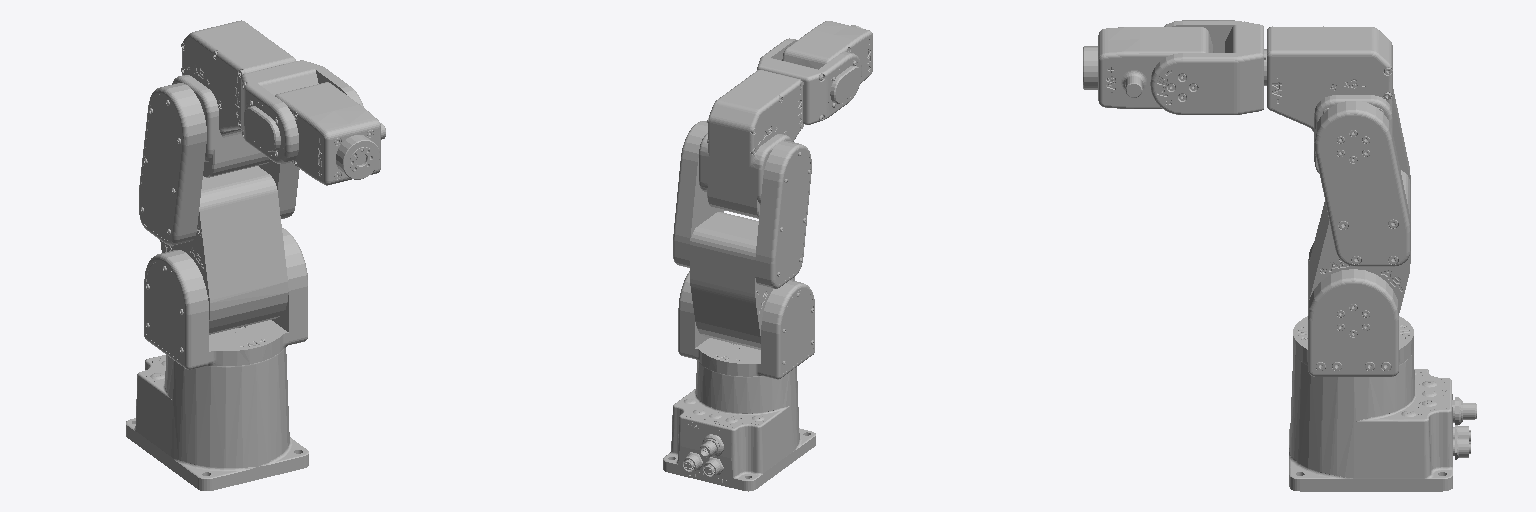
The robot description file, URDF, robot "meca500":
<?xml version="1.0" ?>
<!-- Re-rooted from the home-referenced Onshape export (doc 0427f697...,
     e/fee9a020bbc735c7ee907f27). Tree inverted mathematically: base is root,
     mates in Onshape untouched. Zero position = true Meca500 home. Axis
     0 0 -1 preserves the export's rotation sense. Verified FK-equivalent to
     the export at machine precision.
     Arm-only: split out of robot.urdf.xacro so the Meca500 links/joints can
     be maintained independently of the extruder (see ender3_extruder.urdf). -->
<robot name="meca500">

  <link name="link_0__base">
    <inertial>
      <origin xyz="-3.11465e-05 0.0104961 -0.0502428" rpy="0 0 0"/>
      <mass value="1.90904"/>
      <inertia ixx="0.00285533" ixy="3.86058e-06" ixz="-1.52473e-07" iyy="0.00224755" iyz="0.000252565" izz="0.00266554"/>
    </inertial>
    <visual>
      <origin xyz="0.0155431 0 -0.00437016" rpy="0 0 0"/>
      <geometry><mesh filename="package://msr_meca500_robot/meshes_meca500_with_ender3/link_0__base.stl"/></geometry>
      <material name="link_0__base_material"><color rgba="0.74902 0.74902 0.74902 1"/></material>
    </visual>
    <collision>
      <origin xyz="0.0155431 0 -0.00437016" rpy="0 0 0"/>
      <geometry><mesh filename="package://msr_meca500_robot/meshes_meca500_with_ender3/link_0__base.stl"/></geometry>
    </collision>
  </link>

  <link name="link_1">
    <inertial>
      <origin xyz="0.0012589 -7.610418e-07 0.0232115" rpy="0 0 0"/>
      <mass value="0.619419"/>
      <inertia ixx="0.000550361" ixy="-2.50659e-08" ixz="-1.45934e-05" iyy="0.00108163" iyz="5.45289e-09" izz="0.000974018"/>
    </inertial>
    <visual>
      <origin xyz="0 -1.6345763e-07 0.0445" rpy="-1.570799 3.6732051e-06 -1.5708"/>
      <geometry><mesh filename="package://msr_meca500_robot/meshes_meca500_with_ender3/link_1.stl"/></geometry>
      <material name="link_1_material"><color rgba="0.74902 0.74902 0.74902 1"/></material>
    </visual>
    <collision>
      <origin xyz="0 -1.6345763e-07 0.0445" rpy="-1.570799 3.6732051e-06 -1.5708"/>
      <geometry><mesh filename="package://msr_meca500_robot/meshes_meca500_with_ender3/link_1.stl"/></geometry>
    </collision>
  </link>

  <link name="link_2">
    <inertial>
      <origin xyz="-0.0058745645 0.050695484 0.0318181" rpy="0 0 0"/>
      <mass value="1.73919"/>
      <inertia ixx="0.0052387" ixy="8.73073e-05" ixz="5.16414e-07" iyy="0.001944" iyz="5.35906e-05" izz="0.00435286"/>
    </inertial>
    <visual>
      <origin xyz="1.3100773e-07 -0.04937 0.0164569" rpy="-1.5707927 1.5707927 2.6535898e-06"/>
      <geometry><mesh filename="package://msr_meca500_robot/meshes_meca500_with_ender3/link_2.stl"/></geometry>
      <material name="link_2_material"><color rgba="0.74902 0.74902 0.74902 1"/></material>
    </visual>
    <collision>
      <origin xyz="1.3100773e-07 -0.04937 0.0164569" rpy="-1.5707927 1.5707927 2.6535898e-06"/>
      <geometry><mesh filename="package://msr_meca500_robot/meshes_meca500_with_ender3/link_2.stl"/></geometry>
    </collision>
  </link>

  <link name="link_3">
    <inertial>
      <origin xyz="-0.0086346826 -0.013079285 0.031972351" rpy="0 0 0"/>
      <mass value="1.00601"/>
      <inertia ixx="0.000992666" ixy="-0.00018473" ixz="-4.31499e-06" iyy="0.000746526" iyz="-1.39099e-05" izz="0.00122325"/>
    </inertial>
    <visual>
      <origin xyz="5.8612967e-08 0.18436996 0.015957389" rpy="-2.1964137 1.5707918 2.5159789"/>
      <geometry><mesh filename="package://msr_meca500_robot/meshes_meca500_with_ender3/link_3.stl"/></geometry>
      <material name="link_3_material"><color rgba="0.74902 0.74902 0.74902 1"/></material>
    </visual>
    <collision>
      <origin xyz="5.8612967e-08 0.18436996 0.015957389" rpy="-2.1964137 1.5707918 2.5159789"/>
      <geometry><mesh filename="package://msr_meca500_robot/meshes_meca500_with_ender3/link_3.stl"/></geometry>
    </collision>
  </link>

  <link name="link_4">
    <inertial>
      <origin xyz="-0.0012501924 6.30456e-06 0.029286305" rpy="0 0 0"/>
      <mass value="0.314367"/>
      <inertia ixx="0.000184016" ixy="-9.21593e-09" ixz="7.34301e-06" iyy="0.000298673" iyz="1.8395e-08" izz="0.000209158"/>
    </inertial>
    <visual>
      <origin xyz="2.167191e-07 4.4e-06 0.059" rpy="-1.57079 -3.6732051e-06 1.5707963"/>
      <geometry><mesh filename="package://msr_meca500_robot/meshes_meca500_with_ender3/link_4.stl"/></geometry>
      <material name="link_4_material"><color rgba="0.74902 0.74902 0.74902 1"/></material>
    </visual>
    <collision>
      <origin xyz="2.167191e-07 4.4e-06 0.059" rpy="-1.57079 -3.6732051e-06 1.5707963"/>
      <geometry><mesh filename="package://msr_meca500_robot/meshes_meca500_with_ender3/link_4.stl"/></geometry>
    </collision>
  </link>

  <link name="link_5">
    <inertial>
      <origin xyz="-0.020511087 2.54851e-06 0.023742928" rpy="0 0 0"/>
      <mass value="0.447067"/>
      <inertia ixx="0.000149997" ixy="-2.2551e-08" ixz="9.46505e-06" iyy="0.000325043" iyz="-8.77008e-09" izz="0.000314979"/>
    </inertial>
    <visual>
      <origin xyz="0.11999985 -0.2223748 0.039793541" rpy="1.5707927 -1.5707927 3.1415927"/>
      <geometry><mesh filename="package://msr_meca500_robot/meshes_meca500_with_ender3/link_5.stl"/></geometry>
      <material name="link_5_material"><color rgba="0.74902 0.74902 0.74902 1"/></material>
    </visual>
    <collision>
      <origin xyz="0.11999985 -0.2223748 0.039793541" rpy="1.5707927 -1.5707927 3.1415927"/>
      <geometry><mesh filename="package://msr_meca500_robot/meshes_meca500_with_ender3/link_5.stl"/></geometry>
    </collision>
  </link>

  <!-- Renamed from e_plate to link_6__flange so existing MoveIt/TF configs keep resolving -->
  <link name="link_6__flange">
    <inertial>
      <origin xyz="0.0023892729 0.030714176 0.047889894" rpy="0 0 0"/>
      <mass value="0.0621557"/>
      <inertia ixx="4.78126e-05" ixy="1.09528e-06" ixz="-1.31699e-06" iyy="4.16512e-05" iyz="-1.34038e-05" izz="3.06279e-05"/>
    </inertial>
    <visual>
      <origin xyz="0.076354021 -0.051549583 -0.15859321" rpy="-1.5707953 2.6535898e-06 -3.1415927"/>
      <geometry><mesh filename="package://msr_meca500_robot/meshes_meca500_with_ender3/link_6__flange.stl"/></geometry>
      <material name="link_6__flange_material"><color rgba="0.74902 0.74902 0.74902 1"/></material>
    </visual>
    <collision>
      <origin xyz="0.076354021 -0.051549583 -0.15859321" rpy="-1.5707953 2.6535898e-06 -3.1415927"/>
      <geometry><mesh filename="package://msr_meca500_robot/meshes_meca500_with_ender3/link_6__flange.stl"/></geometry>
    </collision>
  </link>

  <joint name="joint1" type="revolute">
    <origin xyz="0 0 0" rpy="0 0 0"/>
    <parent link="link_0__base"/>
    <child link="link_1"/>
    <axis xyz="0 0 -1"/>
    <limit effort="16.6" velocity="3.927" lower="-3.0543" upper="3.0543"/>
  </joint>
  <joint name="joint2" type="revolute">
    <origin xyz="0.0325 -2.8283679e-07 0.0445" rpy="1.5707963 3.6732051e-06 -1.5708"/>
    <parent link="link_1"/>
    <child link="link_2"/>
    <axis xyz="0 0 -1"/>
    <limit effort="16.6" velocity="3.927" lower="-1.2217" upper="1.5708"/>
  </joint>
  <joint name="joint3" type="revolute">
    <origin xyz="-3.5823462e-07 0.135 0" rpy="0 0 -3.14159"/>
    <parent link="link_2"/>
    <child link="link_3"/>
    <axis xyz="0 0 -1"/>
    <limit effort="16.6" velocity="3.927" lower="-2.3562" upper="1.2217"/>
  </joint>
  <joint name="joint4" type="revolute">
    <origin xyz="-0.060999884 -0.038000084 0.031500123" rpy="-0.62561375 1.5707918 2.5159789"/>
    <parent link="link_3"/>
    <child link="link_4"/>
    <axis xyz="0 0 -1"/>
    <limit effort="2.5" velocity="6.1087" lower="-2.9671" upper="2.9671"/>
  </joint>
  <joint name="joint5" type="revolute">
    <origin xyz="-0.023999783 4.4e-06 0.059000088" rpy="3.1415927 1.5707927 3.1415927"/>
    <parent link="link_4"/>
    <child link="link_5"/>
    <axis xyz="0 0 -1"/>
    <limit effort="2.5" velocity="6.1087" lower="-2.0071" upper="2.0071"/>
  </joint>
  <joint name="joint6" type="revolute">
    <origin xyz="-0.059000089 2.2e-06 0.024249783" rpy="3.1415927 -1.5707927 3.1415927"/>
    <parent link="link_5"/>
    <child link="link_6__flange"/>
    <axis xyz="0 0 -1"/>
    <limit effort="1.5" velocity="8.7266" lower="-628.318" upper="628.318"/>
  </joint>

</robot>

--- Render facts (derived) ---
3 views of the same robot in one strip: view 1: azimuth 30°, elevation 25°; view 2: azimuth 150°, elevation 25°; view 3: azimuth 270°, elevation 25° (orthographic).
Robot: meca500 — 7 links, 6 joints (6 revolute); root link link_0__base; default pose: every joint at zero.
Links seen in each view (by area): view 1: link_2, link_0__base, link_1, link_3, link_5, link_4; view 2: link_2, link_0__base, link_3, link_1, link_4, link_5; view 3: link_0__base, link_2, link_3, link_1, link_4, link_5.
Boxes of the visible links, x1,y1,x2,y2 form: link_2: (139, 83, 299, 334); link_0__base: (126, 348, 308, 490); link_1: (144, 228, 307, 369); link_3: (172, 20, 295, 177); link_5: (275, 82, 385, 185); link_4: (241, 60, 363, 163); link_2: (673, 121, 811, 349); link_0__base: (663, 361, 815, 491); link_3: (699, 70, 803, 218); link_1: (678, 271, 814, 379); link_4: (757, 38, 861, 124); link_5: (782, 21, 872, 83); link_0__base: (1289, 351, 1476, 491); link_2: (1308, 89, 1410, 312); link_3: (1267, 26, 1392, 173); link_1: (1293, 243, 1413, 376); link_4: (1150, 20, 1266, 114); link_5: (1083, 27, 1213, 108).
Size in the robot's own frame: 0.1019 by 0.2772 by 0.33 metres.
7 mesh visuals loaded from 7 distinct referenced files (7 binary STL).
